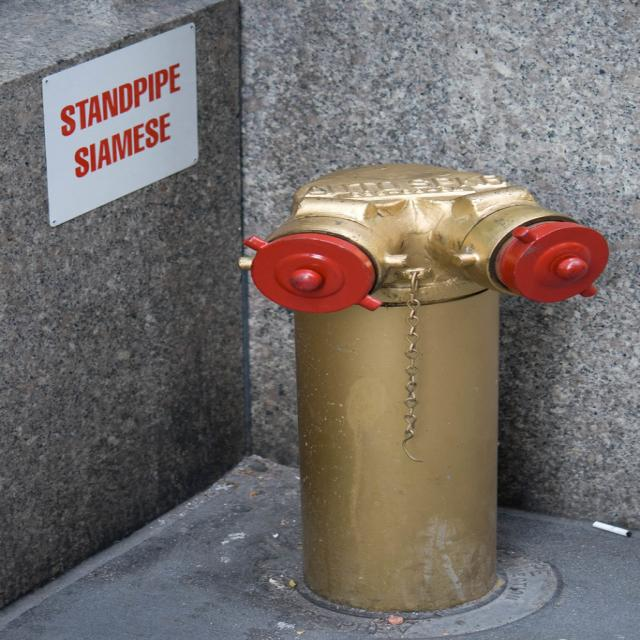fire_hydrant: (242, 163, 614, 618)
